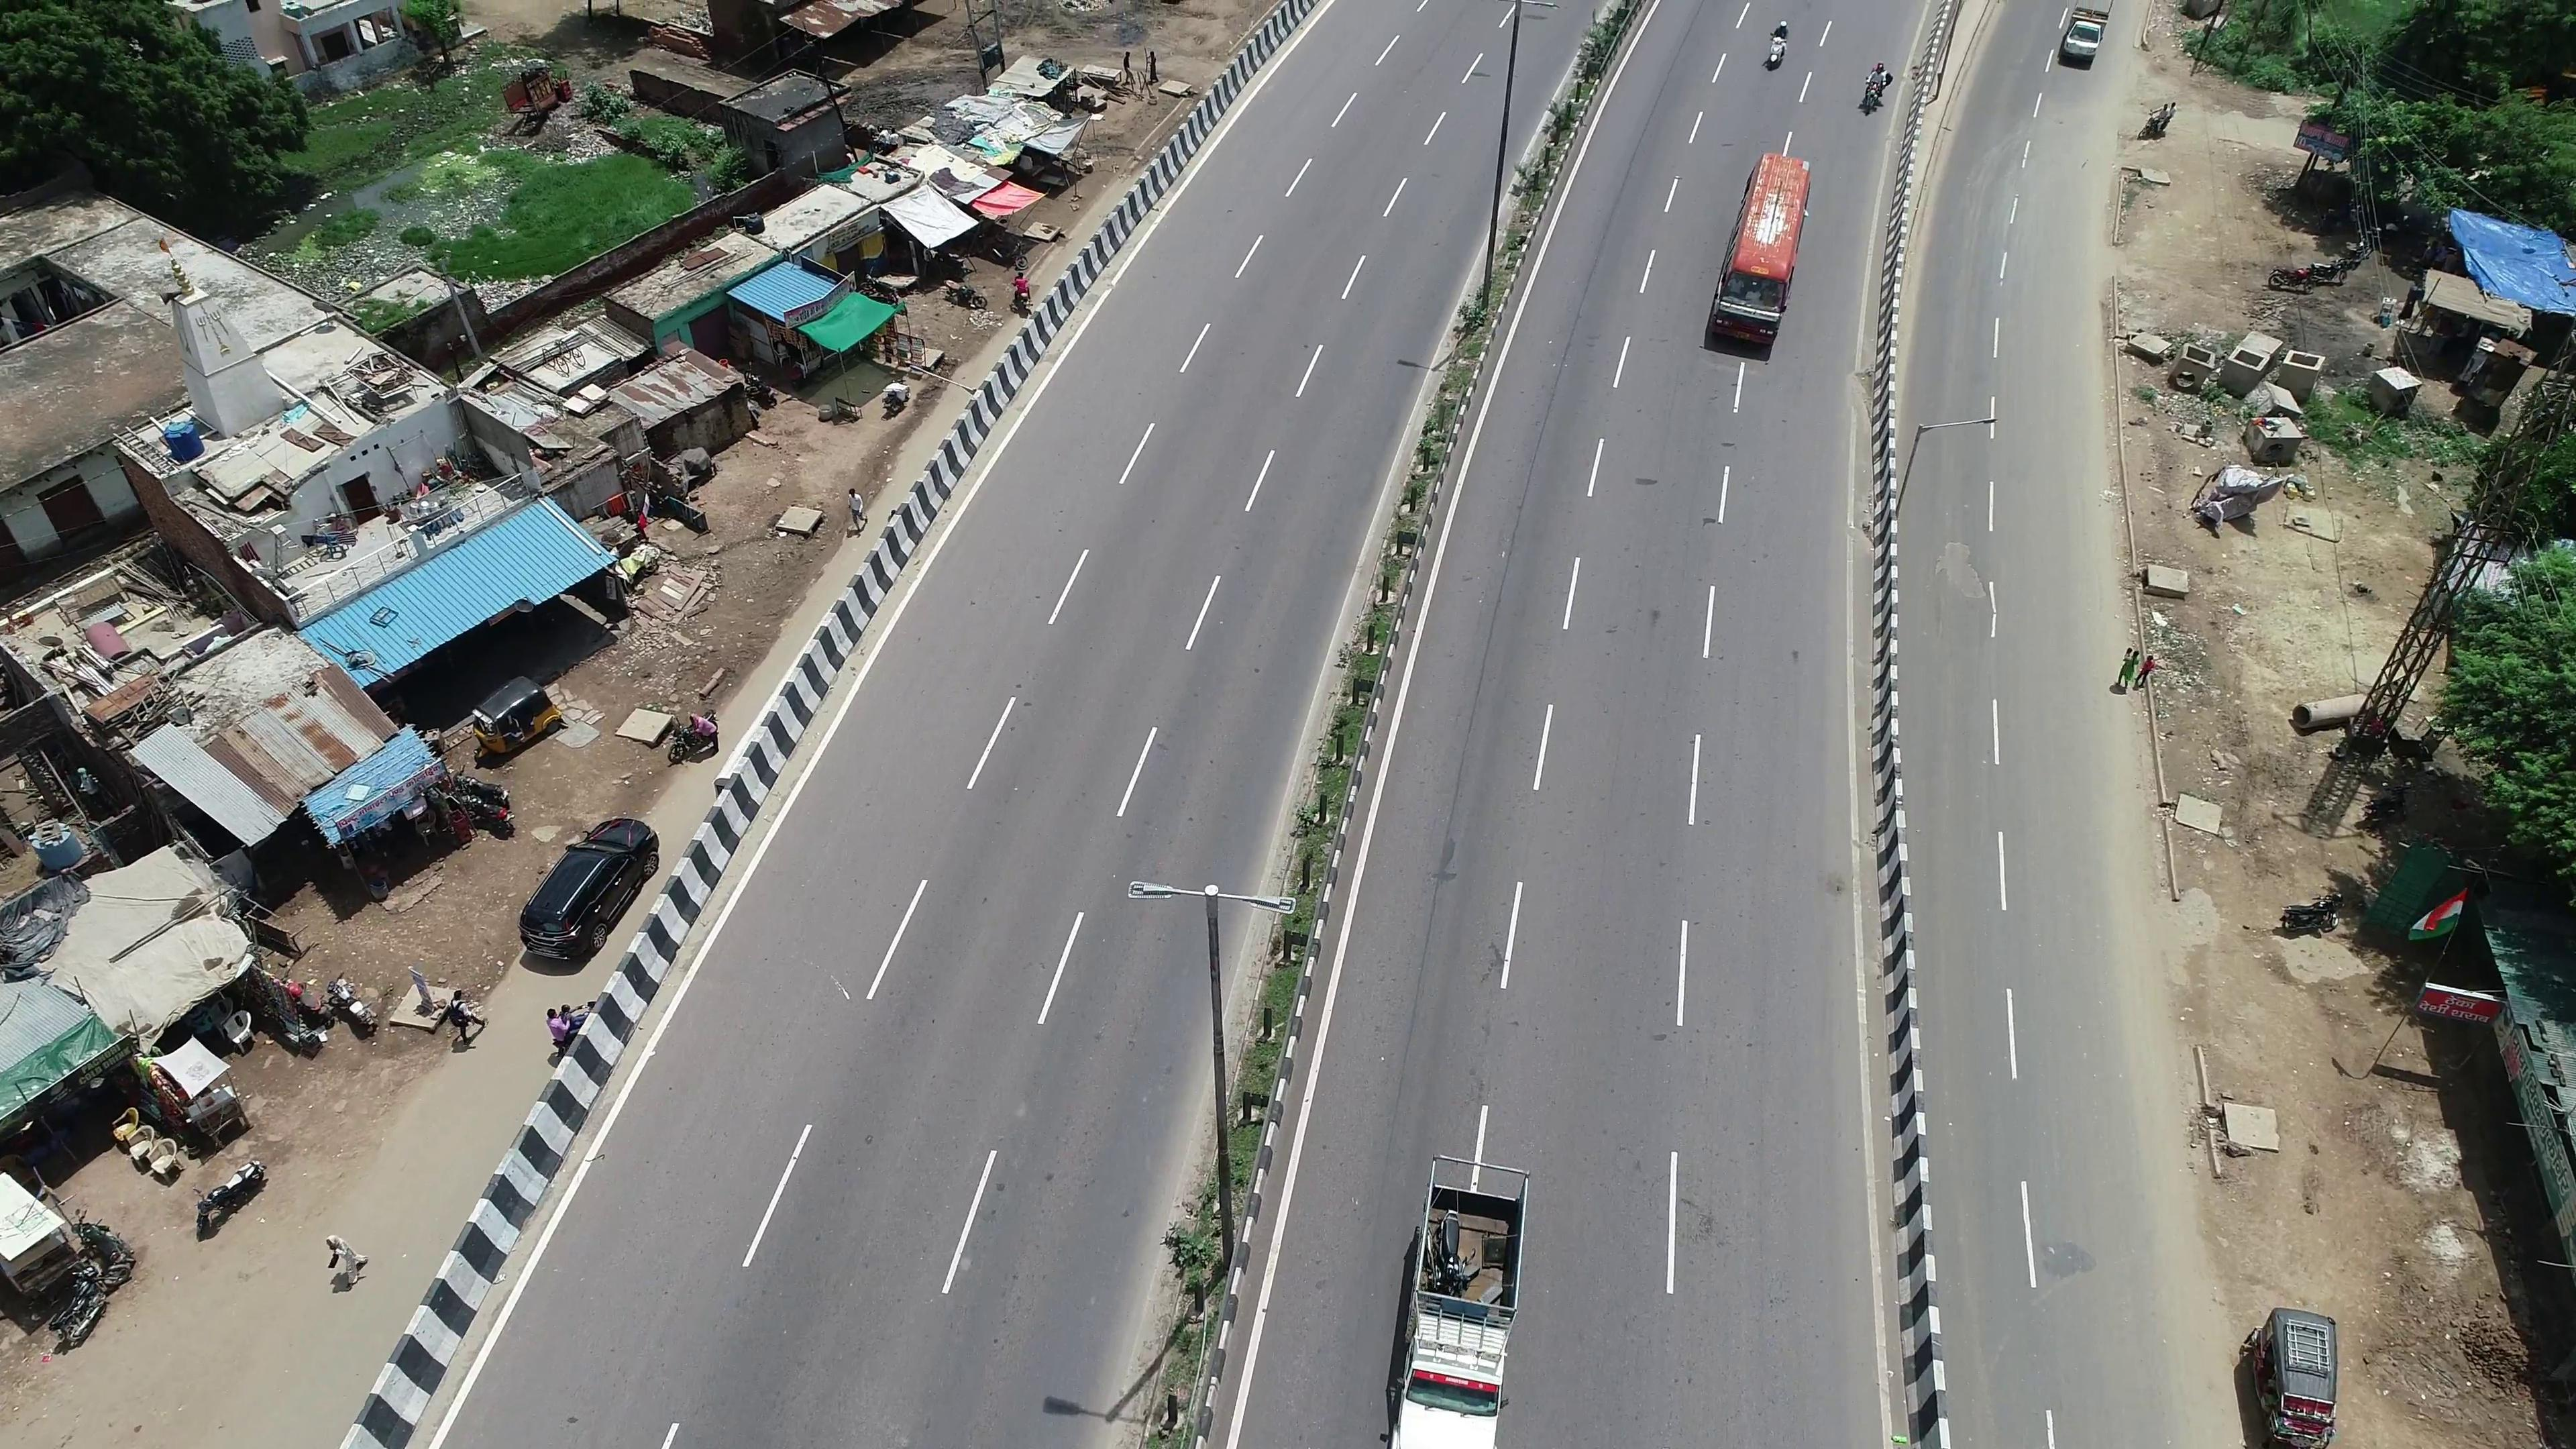Potholes: (1913, 522, 1992, 614)
